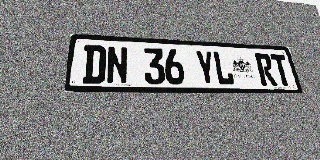3: (144, 48, 165, 85)
6: (163, 49, 185, 85)
D: (82, 45, 106, 84)
L: (212, 51, 235, 85)
N: (106, 46, 128, 84)
R: (254, 53, 277, 86)
T: (270, 54, 293, 86)
Y: (195, 50, 217, 85)
